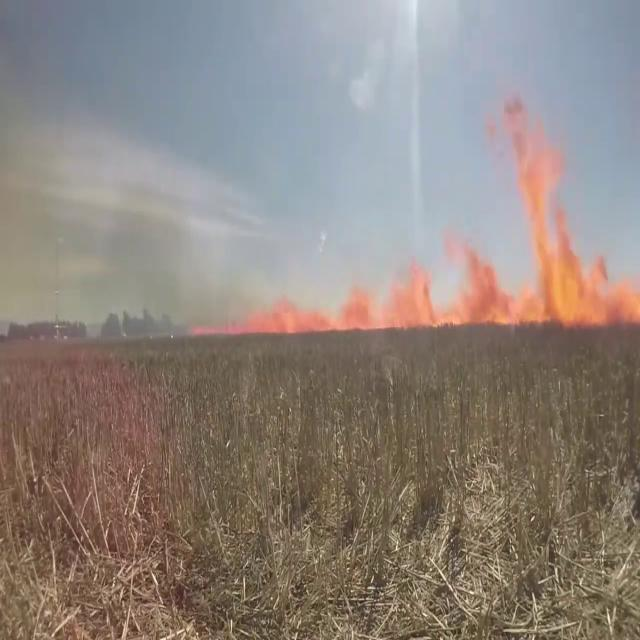Fire: (343, 109, 640, 332), (263, 296, 353, 342)
